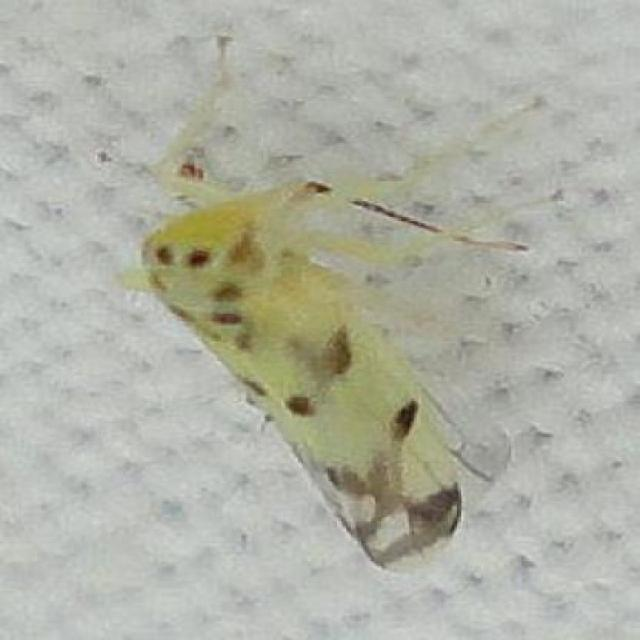green-leafhopper: (138, 163, 493, 568)
